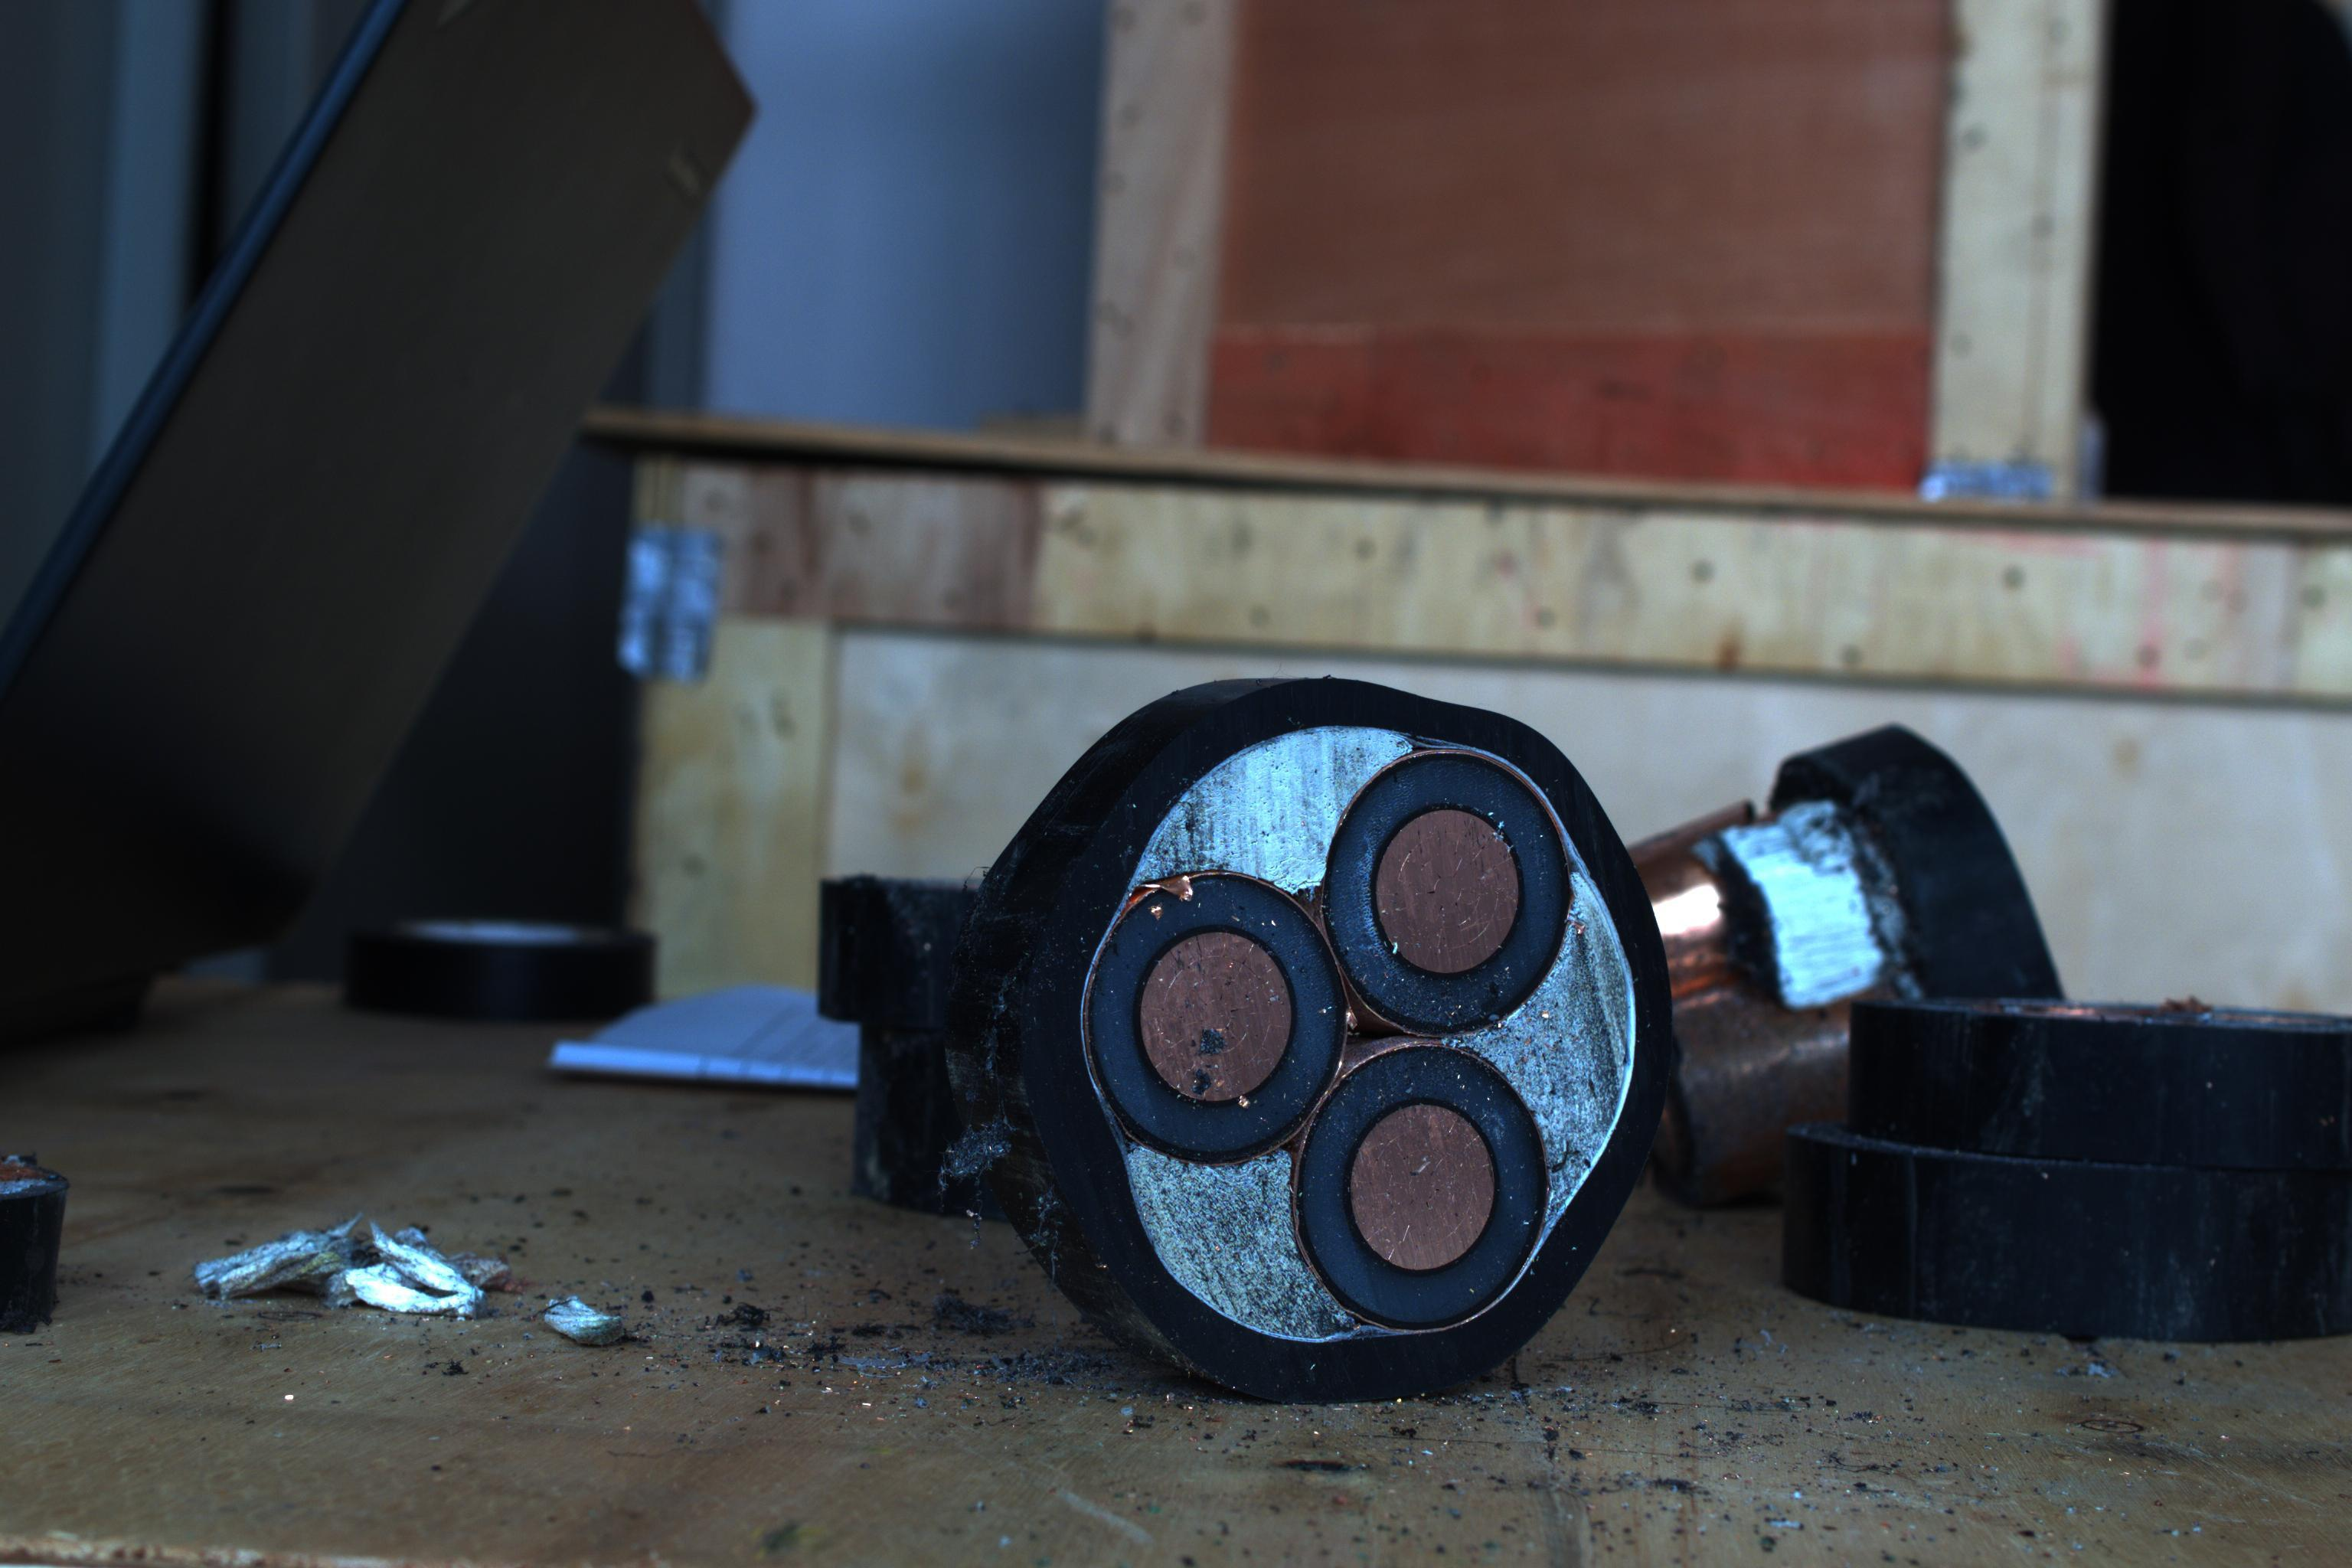ZA_YJV_8.7_10kV_3x240: (1036, 688, 1683, 1374)
